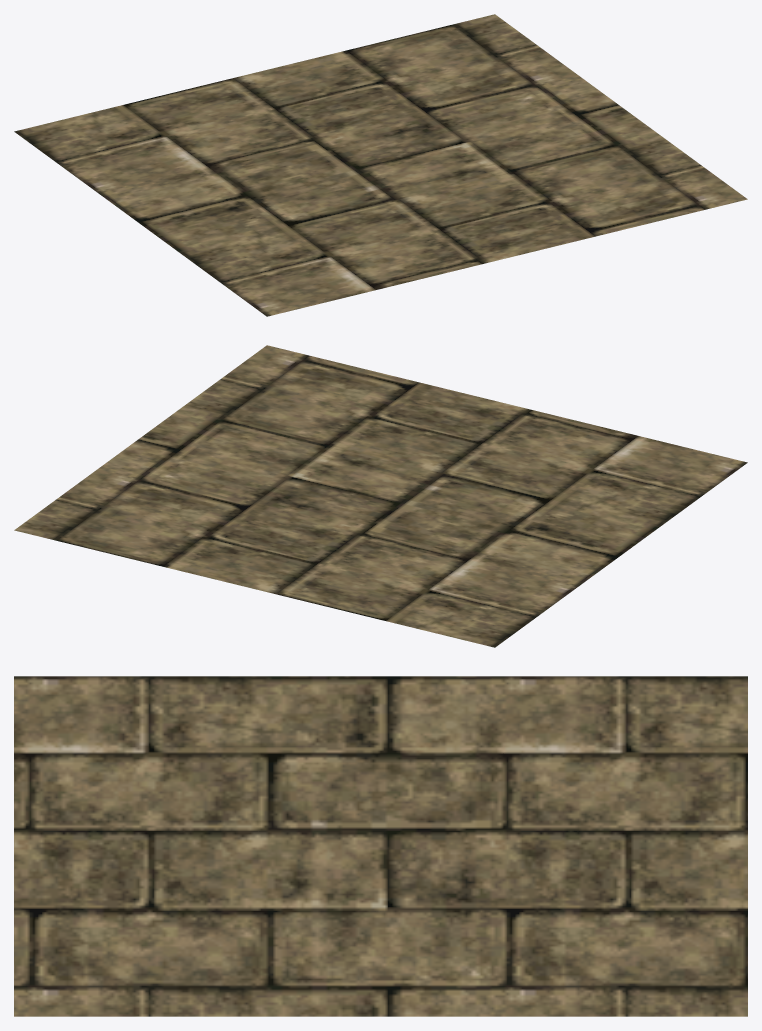
Rendered from OVERHILL_A_01_LINE194.fbx.
The picture shows the model from 3 angles, top to bottom: view 1: azimuth 30°, elevation 25°; view 2: azimuth 150°, elevation 25°; view 3: azimuth 270°, elevation 25°; orthographic projection. The views are drawn at different scales.
Visible parts, largest first — view 1: OVERHILL_A_01_LINE194; view 2: OVERHILL_A_01_LINE194; view 3: OVERHILL_A_01_LINE194.
Part boxes in pixels (x1,y1,x2,y2): OVERHILL_A_01_LINE194: (14,14,747,316); OVERHILL_A_01_LINE194: (14,345,747,647); OVERHILL_A_01_LINE194: (14,676,747,1016).
Bounding box in the file's own units: 39909 × 0.0191 × 36360.
1 material, 1 textured.
